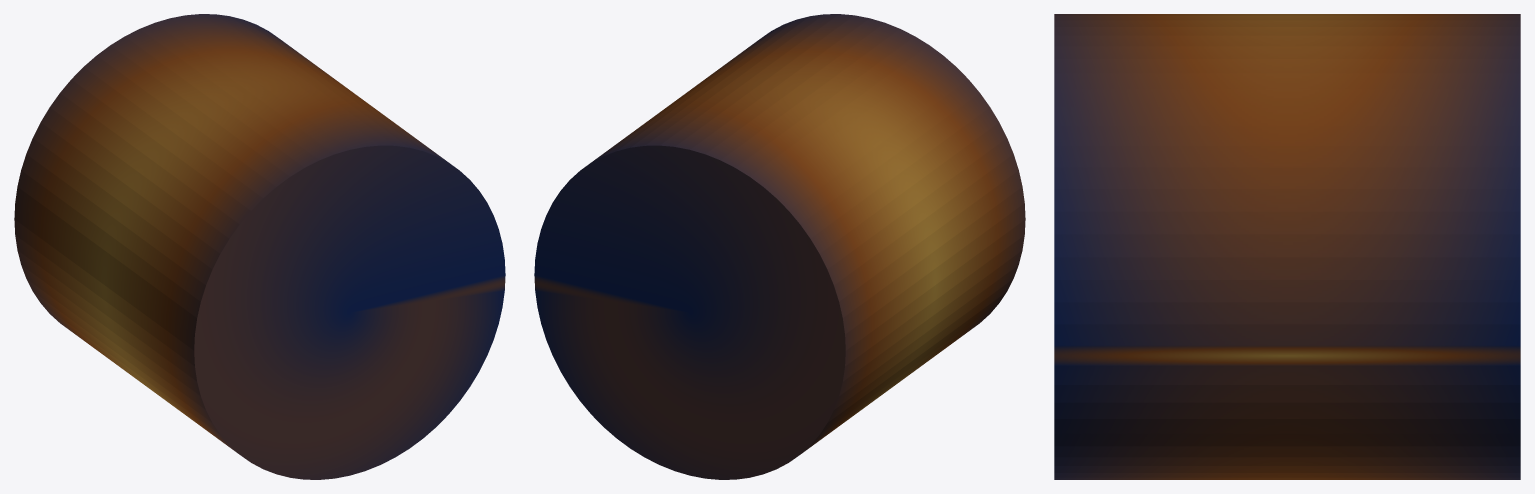
File: cylinder-copper-c1.glb
3 views of the same model, side by side, from view 1: azimuth 30°, elevation 25°; view 2: azimuth 150°, elevation 25°; view 3: azimuth 270°, elevation 25° (orthographic). The views are drawn at different scales.
Parts seen in each view (by area): view 1: world; view 2: world; view 3: world.
Part boxes in pixels (x1=…): world: x1=14, y1=14, x2=505, y2=479; world: x1=534, y1=14, x2=1025, y2=479; world: x1=1054, y1=14, x2=1520, y2=479.
Bounding box in the file's own units: 1 × 1 × 1.
Materials: 1 (1 with a texture image).
